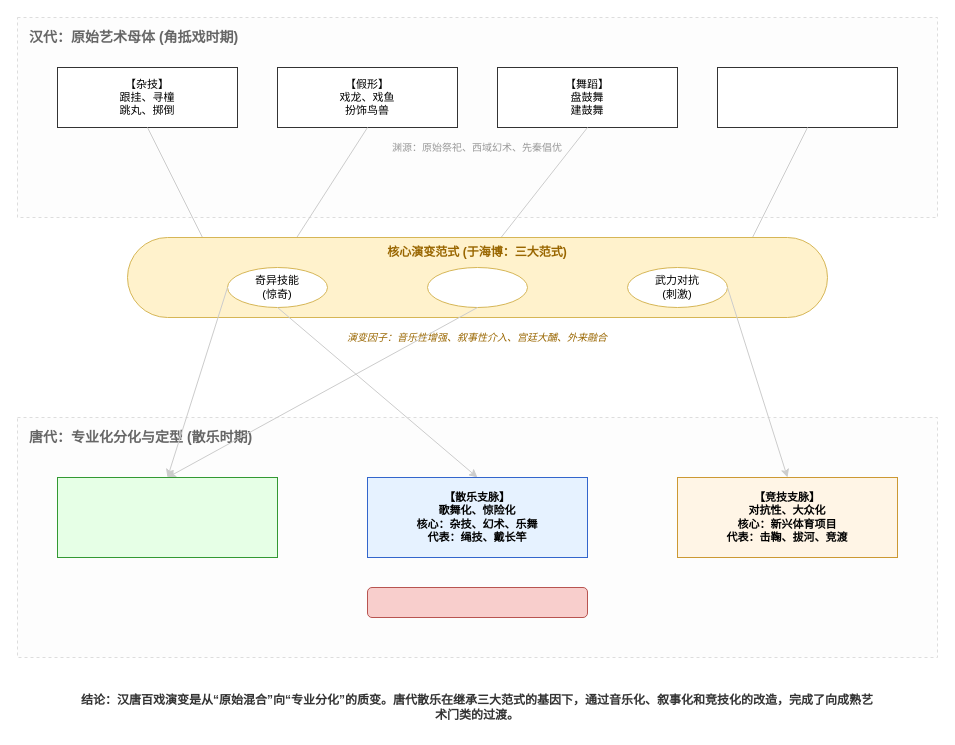
The diagram is 955 pixels wide and 745 high, and some of its shapes have lost their labels. Each missing label, with the centre of its shape:
【戏剧支脉】 叙事化、角色化 核心：歌舞戏、参军戏 代表：踏摇娘、大面: the point at 167,517
【竞技】 角抵、手搏 蹴鞠: the point at 807,97
专业化标志：左右教坊设立: the point at 477,602
滑稽嘲谑 (幽默): the point at 477,287
